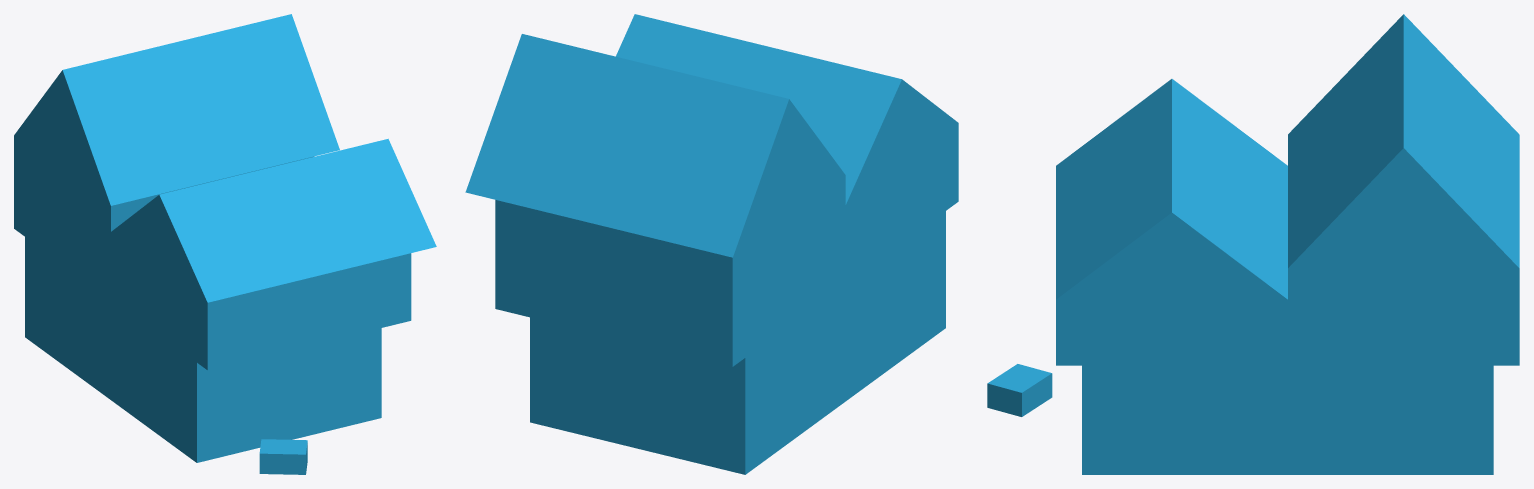
Rendered from thievesGuild02.glb.
3 views of the same model, side by side, from view 1: azimuth 30°, elevation 25°; view 2: azimuth 150°, elevation 25°; view 3: azimuth 270°, elevation 25° (orthographic). The views are drawn at different scales.
Parts seen in each view (by area): view 1: ThievesGuild02; view 2: ThievesGuild02; view 3: ThievesGuild02.
Part boxes in pixels (box(x1,y1,x2,y2)): ThievesGuild02: box(14, 14, 436, 474); ThievesGuild02: box(465, 14, 958, 474); ThievesGuild02: box(987, 14, 1519, 474).
Size of the model in its own units: 1.54 by 1.89 by 2.58.
